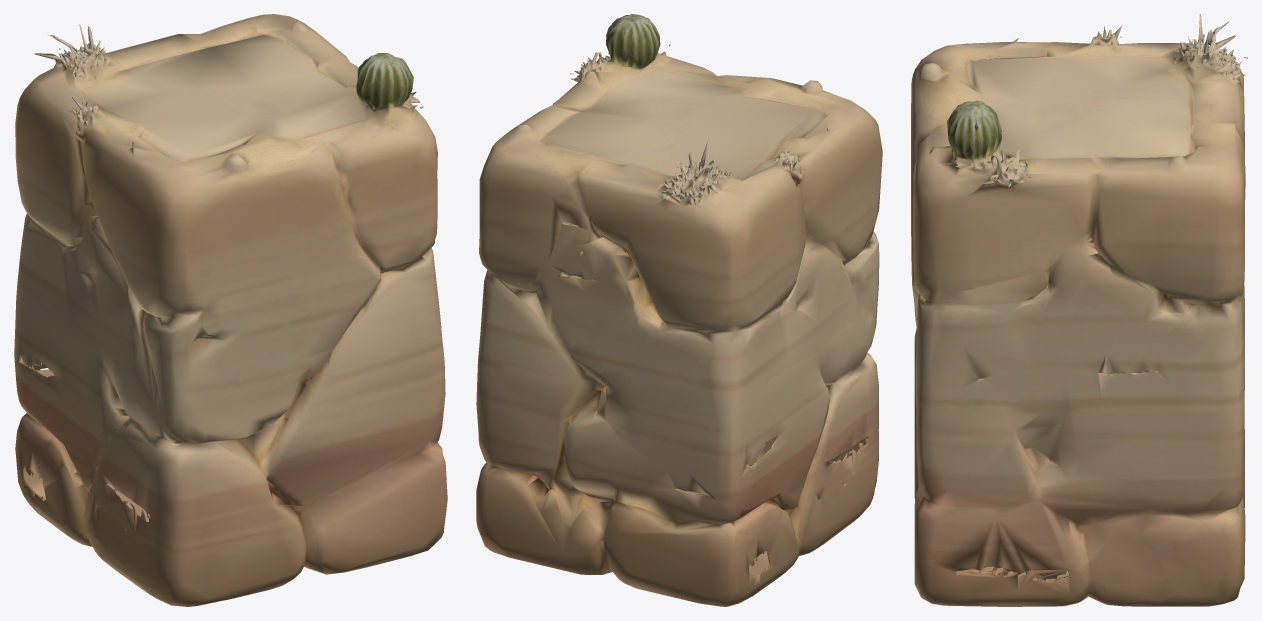
The picture shows the model from 3 angles, left to right: view 1: azimuth 30°, elevation 25°; view 2: azimuth 150°, elevation 25°; view 3: azimuth 270°, elevation 25°; orthographic projection. The views are drawn at different scales.
Parts seen in each view (by area): view 1: world; view 2: world; view 3: world.
Boxes of the visible parts, x1,y1,x2,y2 form: world: [14, 14, 447, 606]; world: [476, 14, 882, 606]; world: [911, 14, 1247, 606].
Bounding box in the file's own units: 0.6209 × 0.9964 × 0.622.
1 material, 1 textured.
